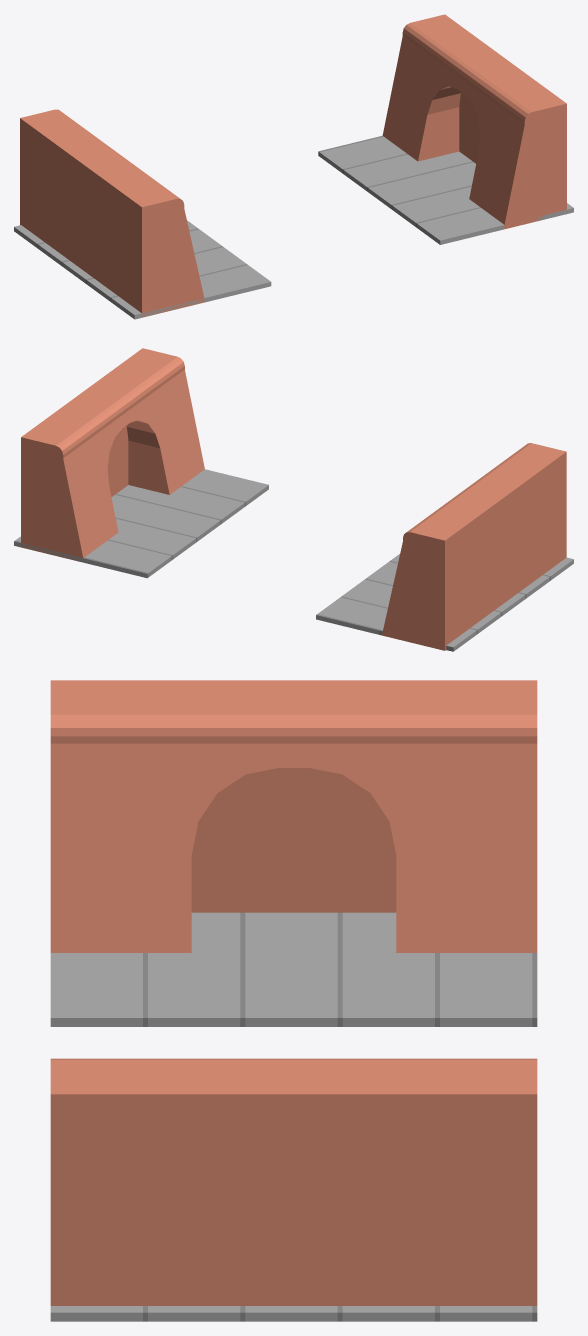
File: Parede.fbx
3 views of the same model, one above another, from view 1: azimuth 30°, elevation 25°; view 2: azimuth 150°, elevation 25°; view 3: azimuth 270°, elevation 25° (orthographic). The views are drawn at different scales.
Visible parts, largest first — view 1: Parede, Calcada; view 2: Parede, Calcada; view 3: Parede, Calcada.
Part boxes in pixels (x1,y1,x2,y2): Parede: [20, 14, 566, 317]; Calcada: [14, 135, 573, 319]; Parede: [21, 348, 566, 650]; Calcada: [14, 469, 573, 651]; Parede: [50, 680, 537, 1305]; Calcada: [50, 912, 537, 1321].
Bounding box in the file's own units: 2080 × 500 × 1000.
